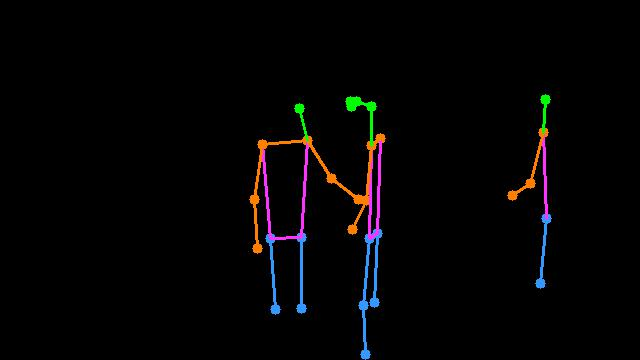normal: (222, 67, 419, 360)
